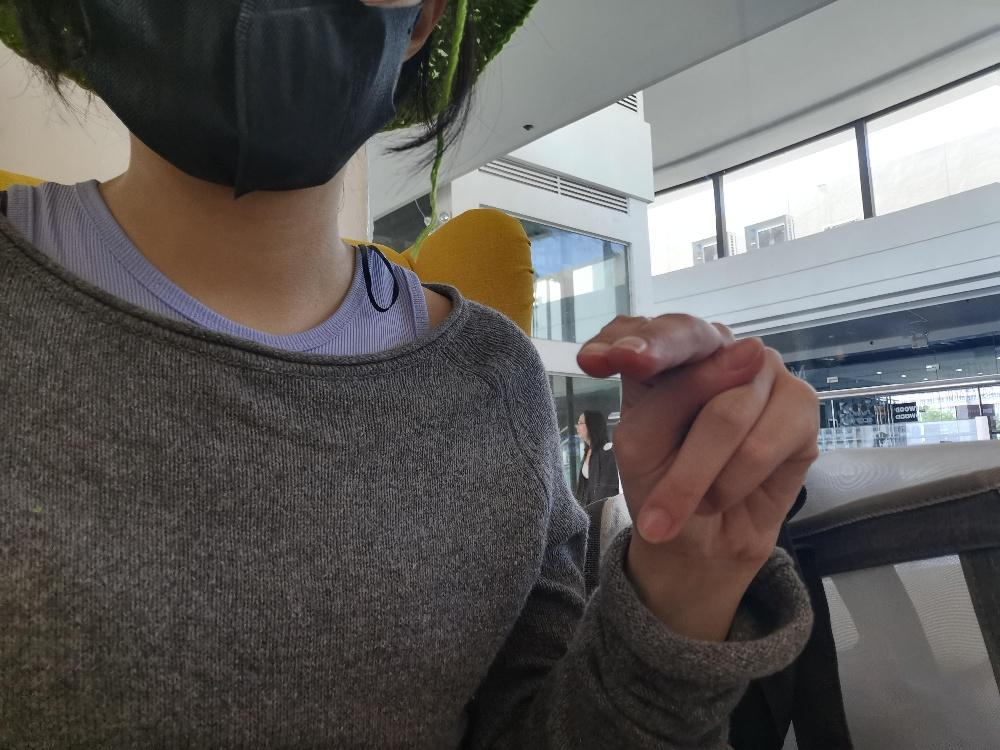n: (574, 310, 821, 561)
